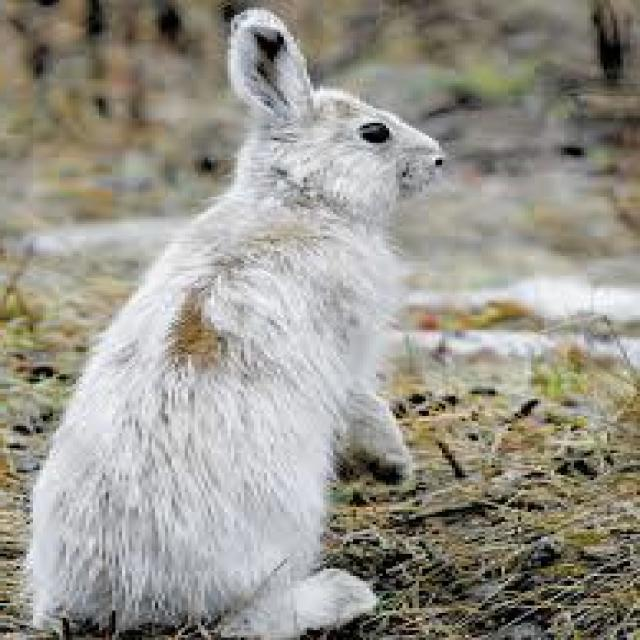hare: (30, 7, 445, 638)
